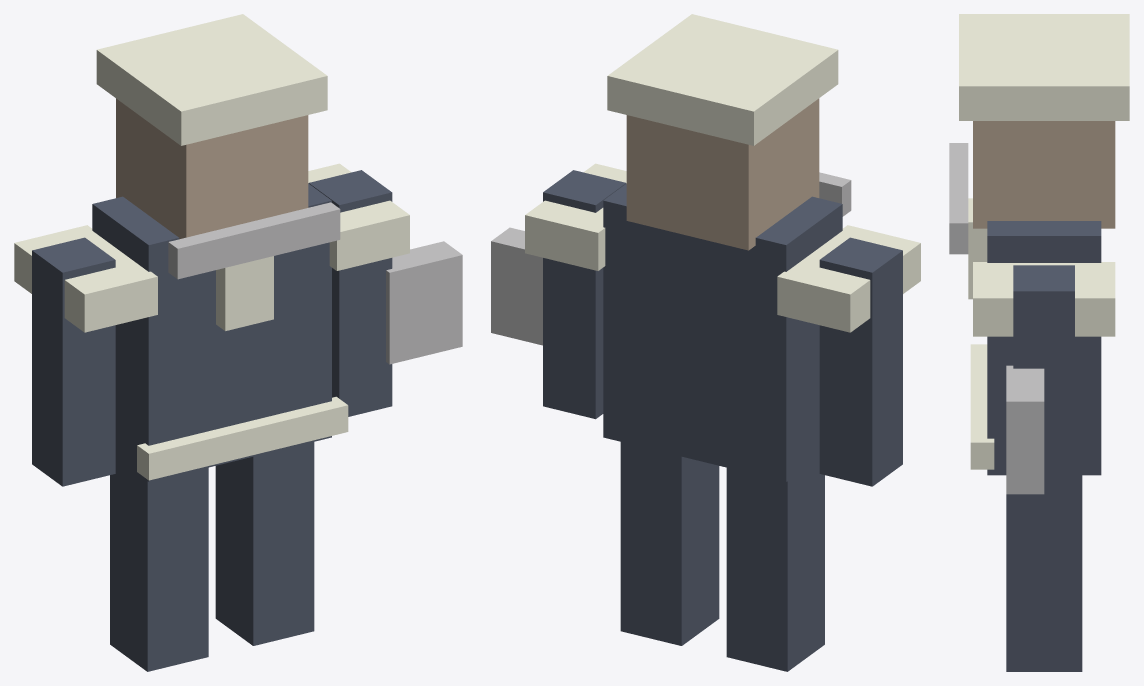
The model's file is 02_maven_glassroot_custodian_from_troop.glb.
3 renders of one model, left to right at view 1: azimuth 30°, elevation 25°; view 2: azimuth 150°, elevation 25°; view 3: azimuth 270°, elevation 25°, orthographic.
Visible parts, largest first — view 1: Maven Glassroot, Custodian from Troop; view 2: Maven Glassroot, Custodian from Troop; view 3: Maven Glassroot, Custodian from Troop.
Part boxes in pixels (x1,y1,x2,y2): Maven Glassroot, Custodian from Troop: [14, 14, 462, 671]; Maven Glassroot, Custodian from Troop: [491, 14, 920, 671]; Maven Glassroot, Custodian from Troop: [949, 14, 1129, 671].
Bounding box in the file's own units: 1.03 × 1.43 × 0.4027.
